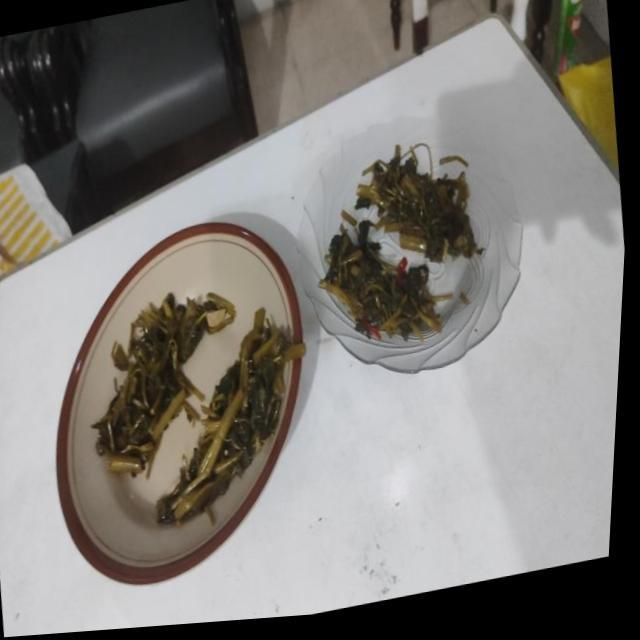tumis_kangkung: (157, 308, 306, 524), (91, 292, 236, 477), (318, 219, 442, 341), (354, 144, 482, 262)
